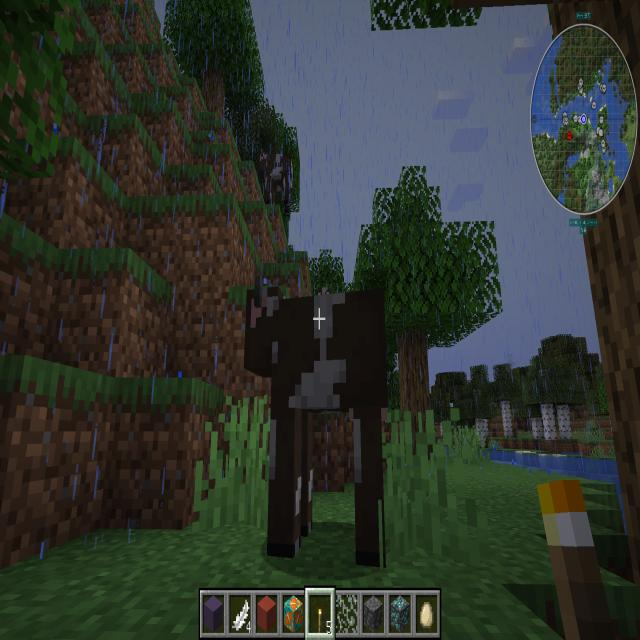cow: (237, 264, 400, 580), (255, 144, 301, 216)
